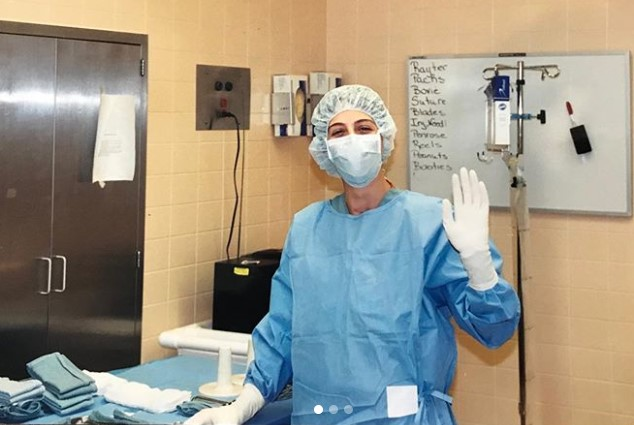face_with_mask: (305, 84, 396, 190)
